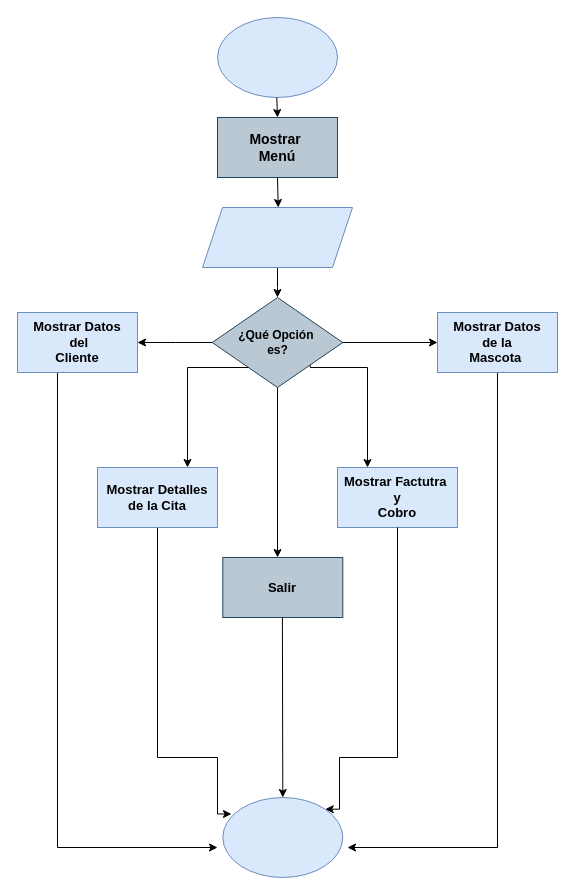
Some shapes in this 575 by 895 pixel diagram are drawn without their labels. Each missing label, with the centre of its shape:
Fin: the point at 282,837
Inicio: the point at 277,57
Leer opción ingresada: the point at 277,237
